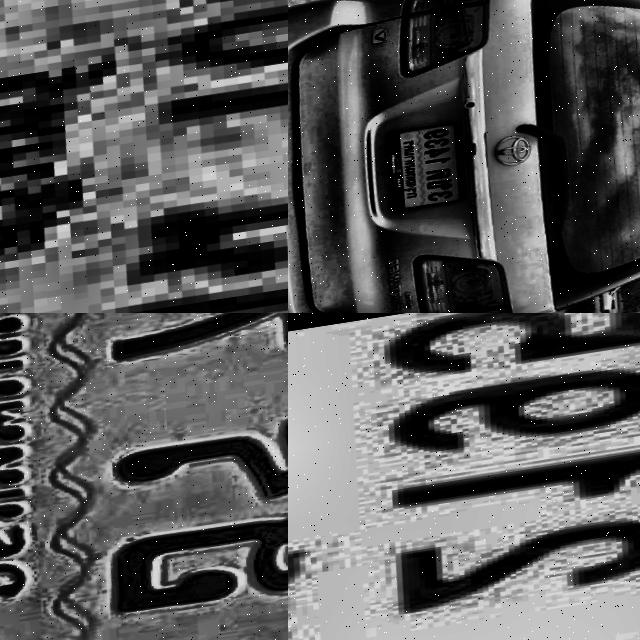license-plate: (288, 313, 640, 640), (0, 313, 288, 640), (0, 0, 288, 313), (382, 110, 499, 212)
